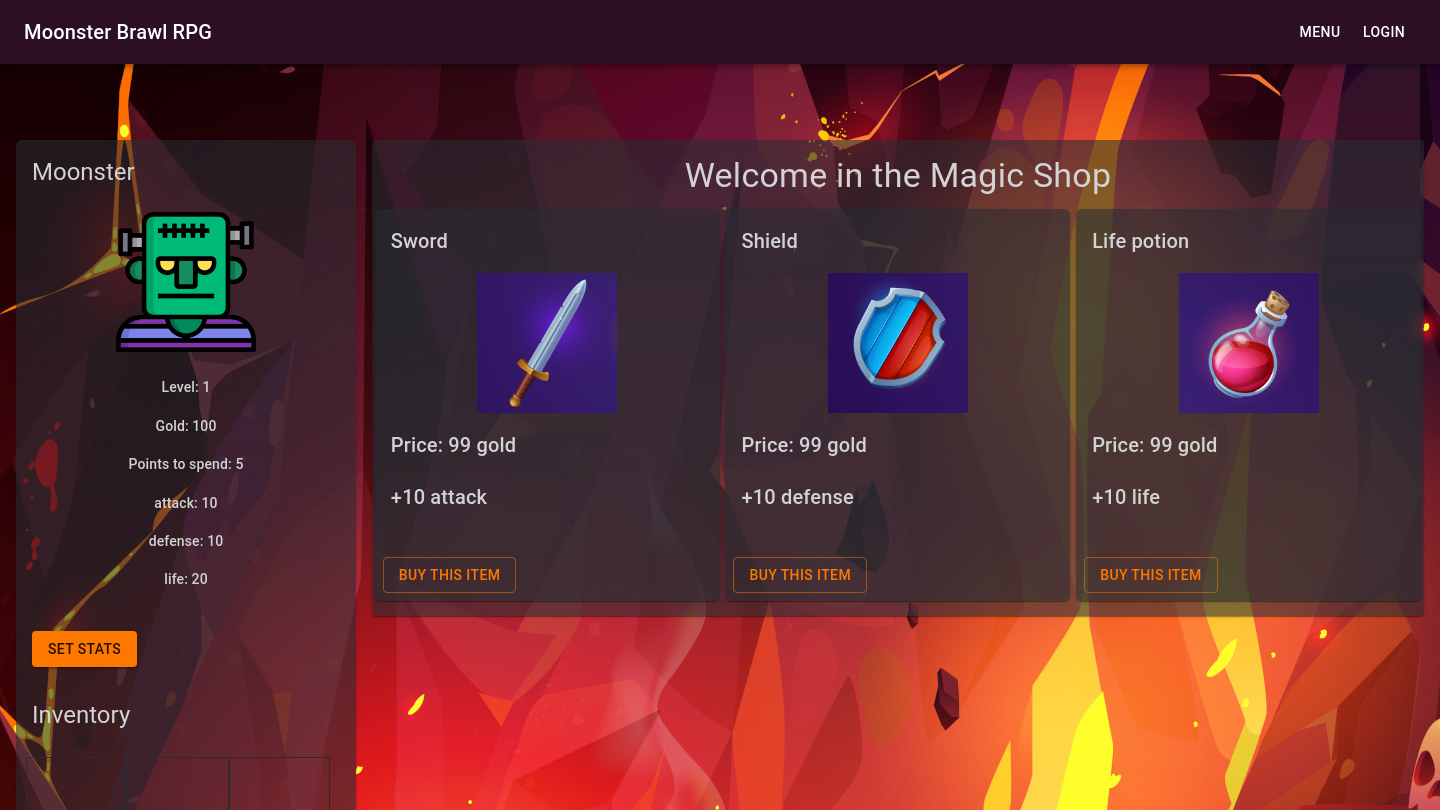
Test case: returns to main menu once munu button is clicked
Click the button "MENU" at (1320, 32), box [1288,14,1352,50]
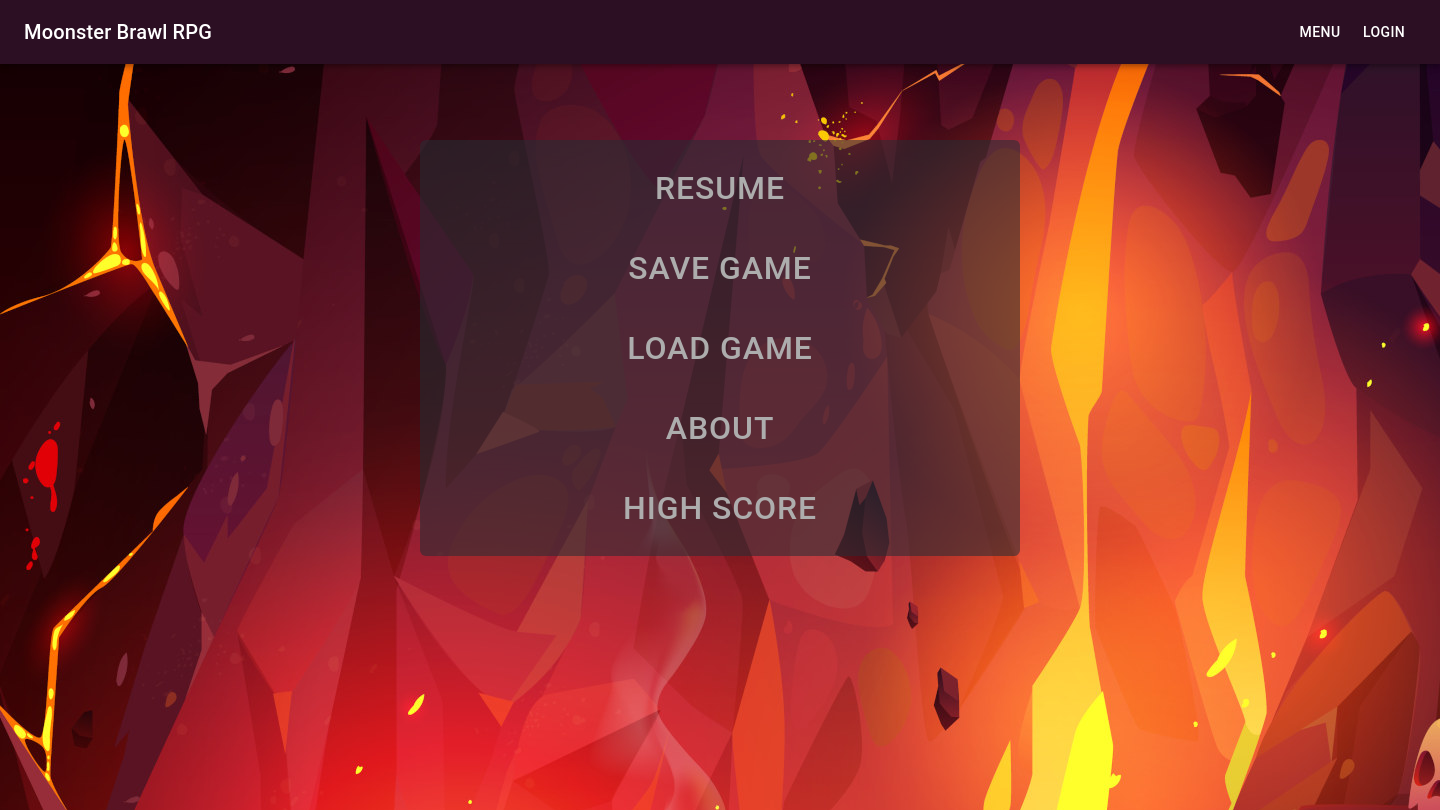
Expected: the element with test id "main-menu" is shown, [420,140,1020,556]
